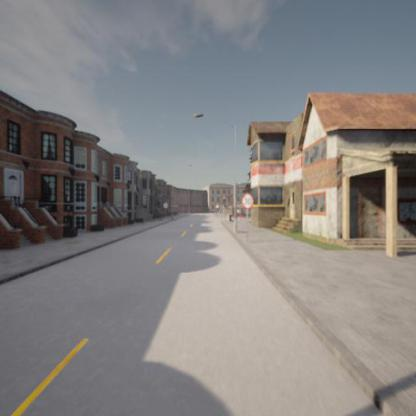traffic_sign_30: (241, 194, 253, 208)
